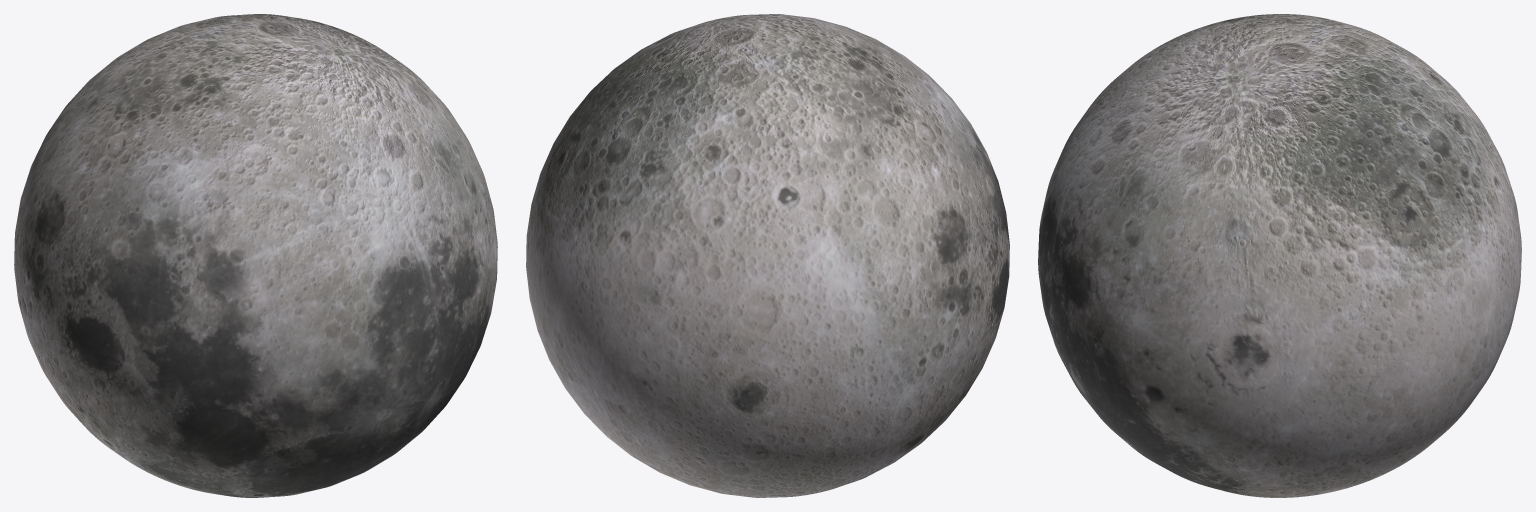
The model's file is asset.glb.
3 renders of one model, left to right at view 1: azimuth 30°, elevation 25°; view 2: azimuth 150°, elevation 25°; view 3: azimuth 270°, elevation 25°, orthographic.
Parts seen in each view (by area): view 1: Sphere; view 2: Sphere; view 3: Sphere.
Boxes of the visible parts, left/top/right/bottom form: Sphere: left=14, top=14, right=497, bottom=497; Sphere: left=526, top=14, right=1009, bottom=497; Sphere: left=1038, top=14, right=1521, bottom=497.
Bounding box in the file's own units: 91.38 × 91.39 × 91.41.
1 material, 1 textured.
